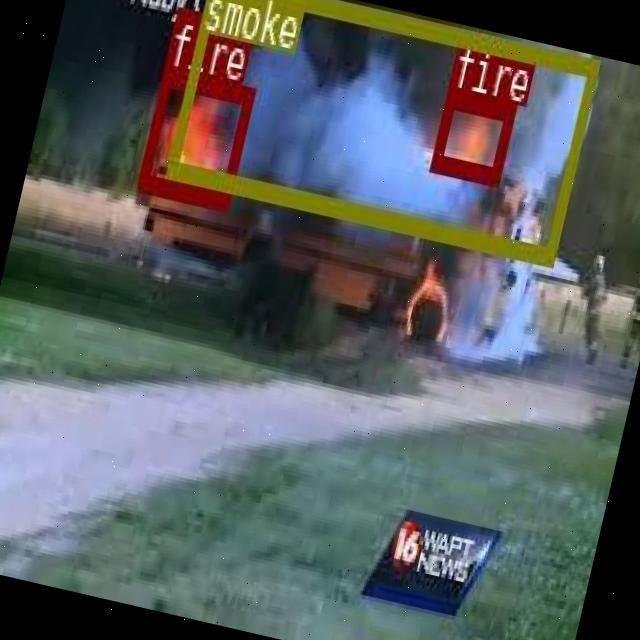fire: (136, 66, 252, 207), (428, 86, 514, 182)
smoke: (164, 0, 598, 262)
